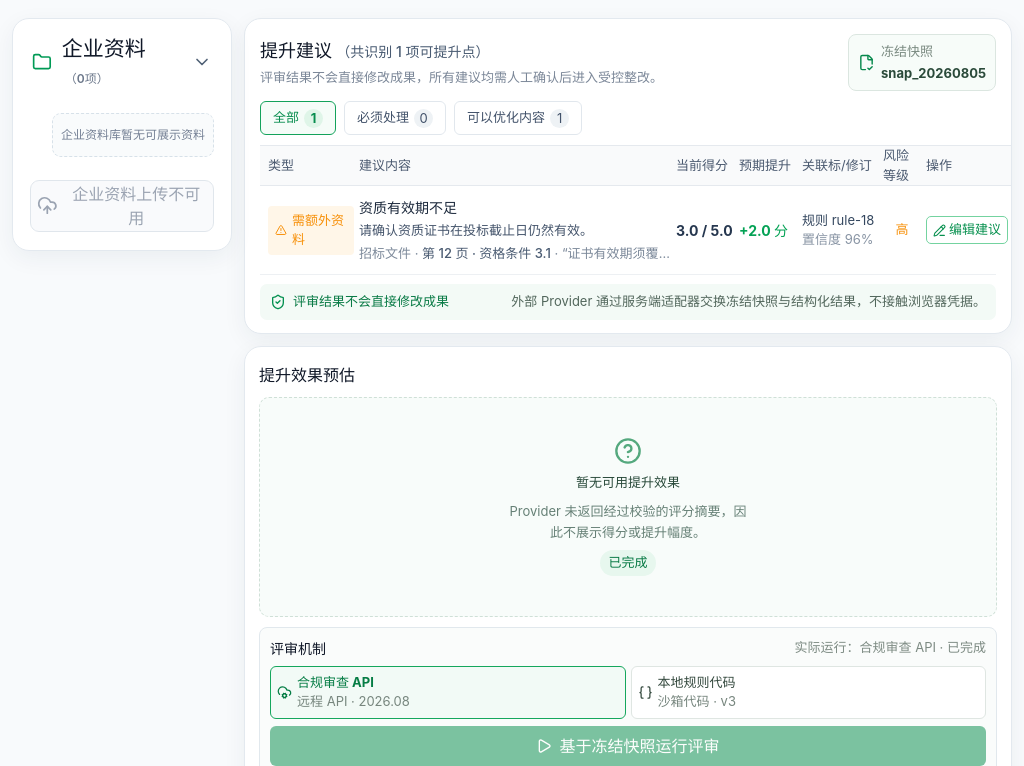
Test: ReviewCenter › marks an empty suggestion invalid, explains the error and prevents saving
Step 1. Click the button with aria-label "编辑建议：资质有效期不足" → (967, 230), box [926,216,1008,244]
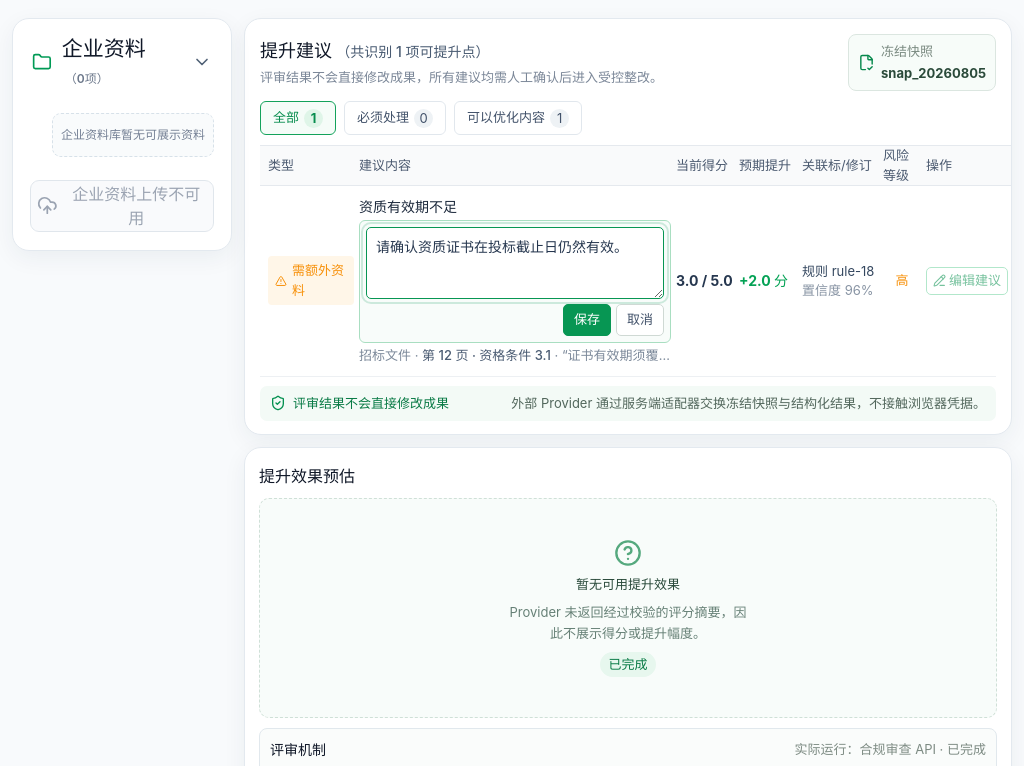
Step 2. Clear the text box named "编辑“资质有效期不足”的建议内容" → (515, 263), box [366,227,664,299]
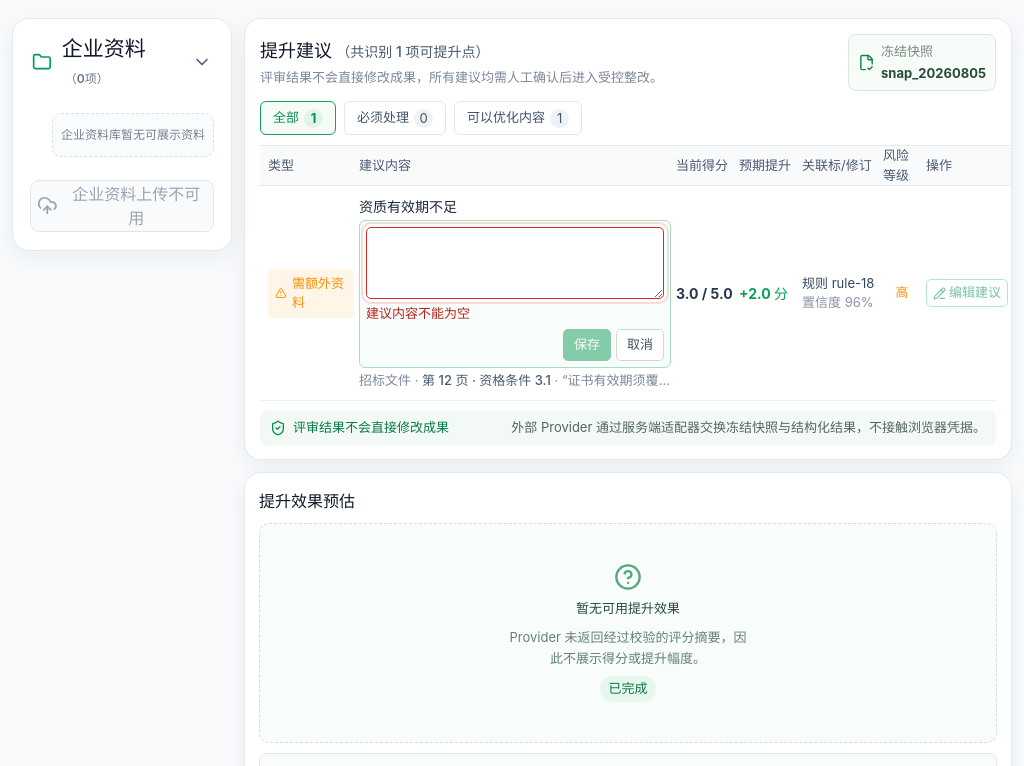
Result: the message "建议内容不能为空" is shown at [366,305,470,321]
Result: the button with aria-label "保存建议：资质有效期不足" is disabled at [563,328,611,360]
Step 3. Click the button with aria-label "取消编辑：资质有效期不足" → (640, 344), box [616,328,664,360]
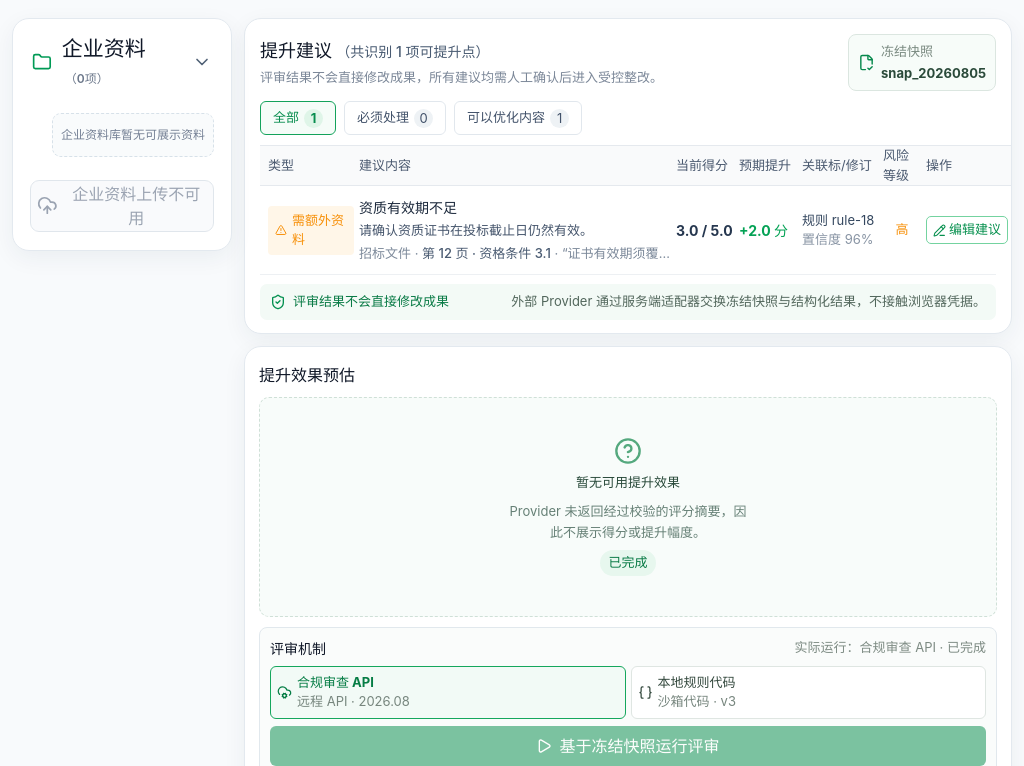
Result: the text "请确认资质证书在投标截止日仍然有效。" is shown at [359,222,593,238]
